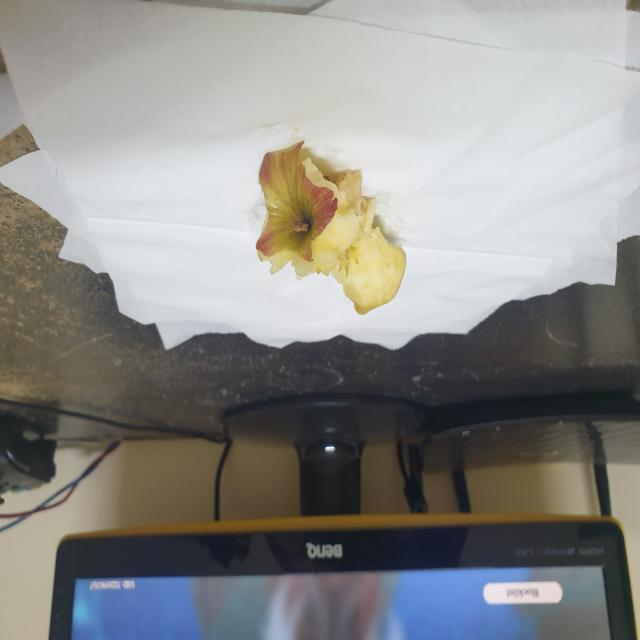apple: (247, 136, 408, 326)
